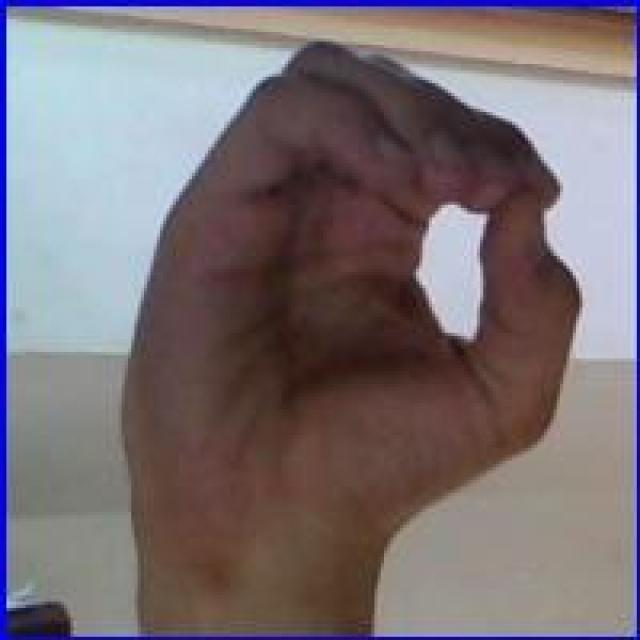O: (119, 35, 586, 560)
